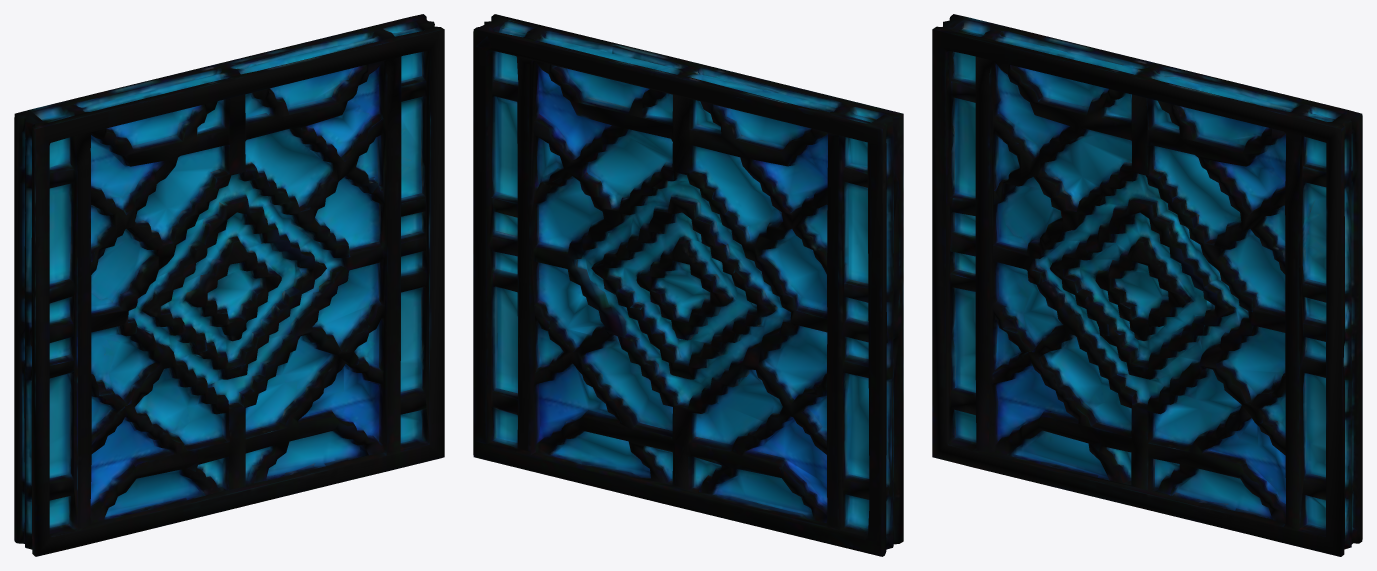
Rendered from vitrail-geometric.glb.
3 renders of one model, left to right at view 1: azimuth 30°, elevation 25°; view 2: azimuth 150°, elevation 25°; view 3: azimuth 330°, elevation 25°, orthographic.
Visible parts, largest first — view 1: material; view 2: material; view 3: material.
Boxes of the visible parts, left/top/right/bottom form: material: left=14, top=14, right=444, bottom=556; material: left=473, top=14, right=903, bottom=556; material: left=932, top=14, right=1362, bottom=556.
Bounding box in the file's own units: 0.8499 × 0.8502 × 0.0795.
1 material, 1 textured.
